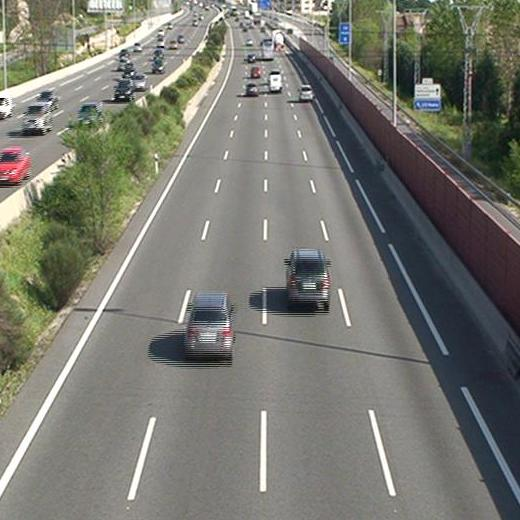bus: (261, 39, 274, 60)
car: (186, 295, 234, 356), (288, 252, 331, 303), (300, 86, 313, 100), (246, 84, 260, 97), (250, 66, 260, 78), (246, 53, 257, 63)
van: (269, 74, 281, 93)
